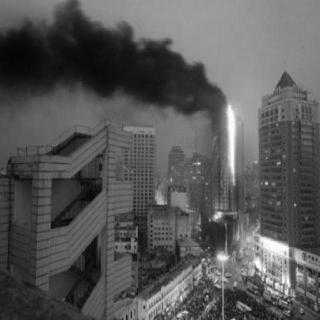other: (157, 183, 167, 209), (262, 179, 270, 185)
